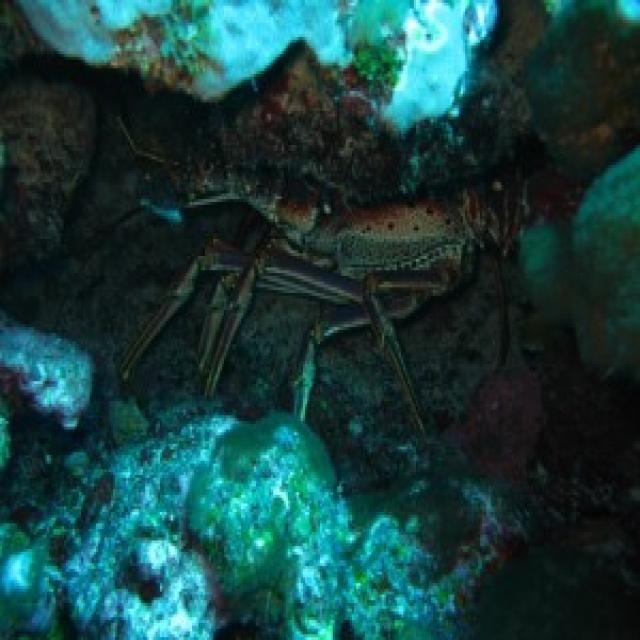lobsters: (151, 20, 558, 452)
